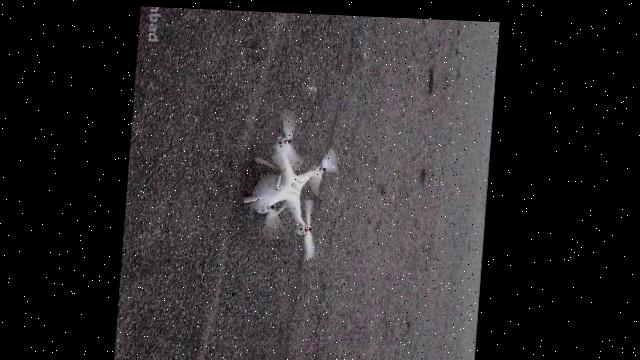drone: (246, 105, 346, 256)
